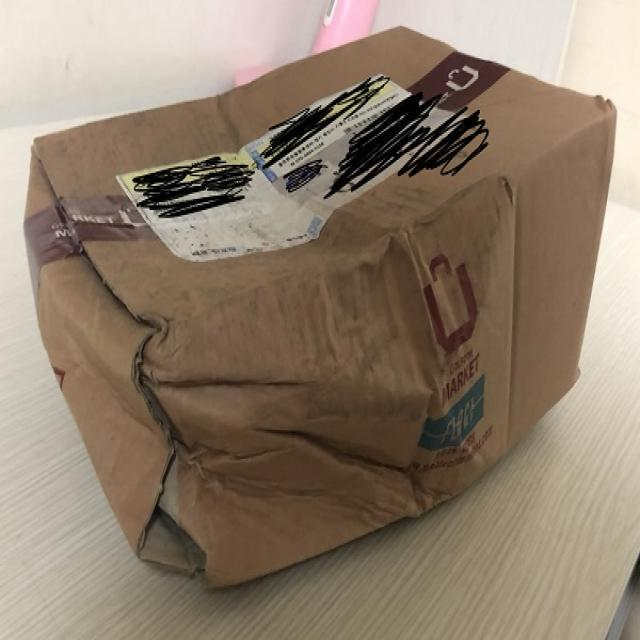hole: (141, 497, 215, 581)
